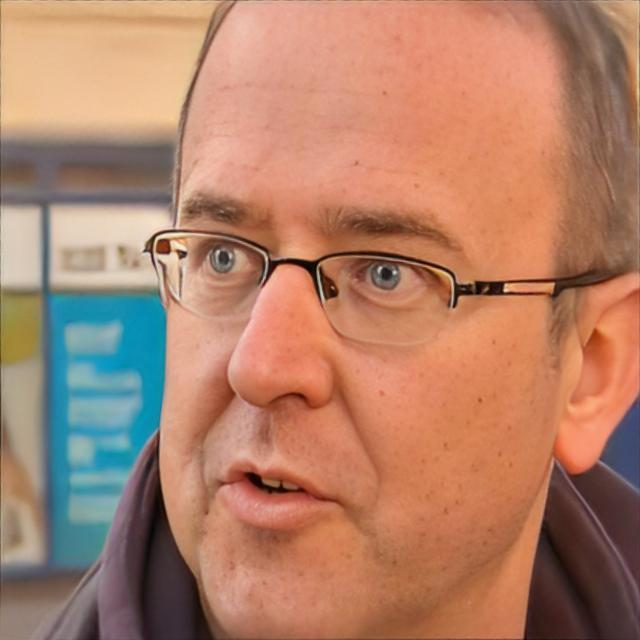surprise: (158, 0, 556, 640)
